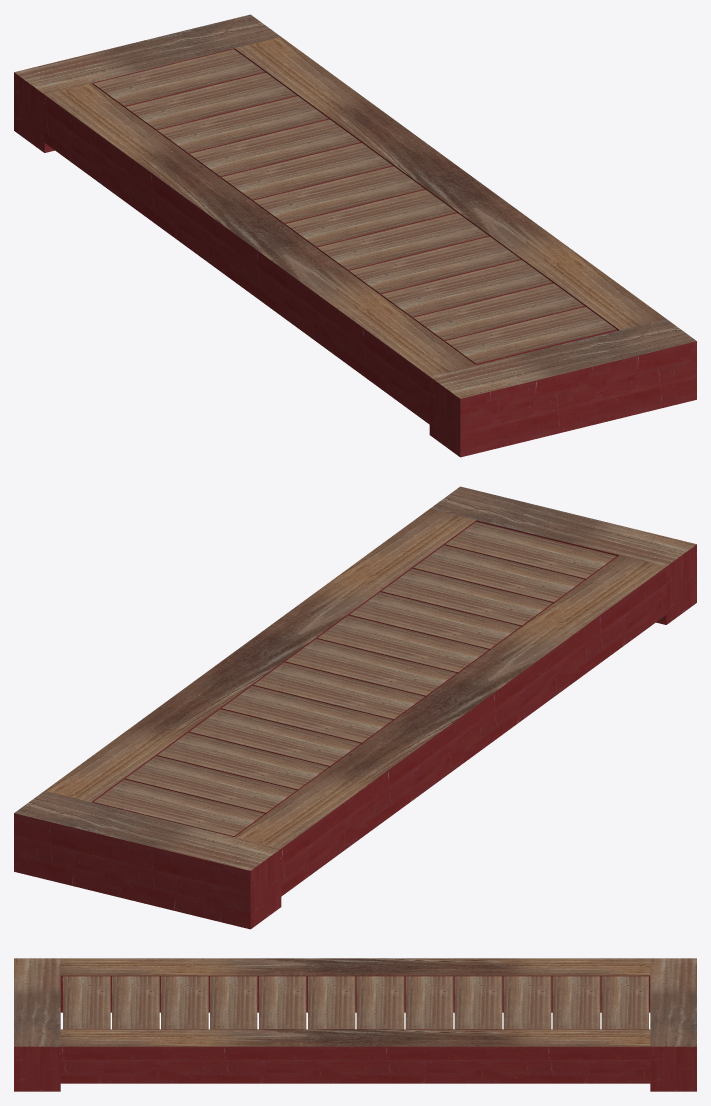
Rendered from SM_F_Wood_3.fbx.
3 views of the same model, one above another, from view 1: azimuth 30°, elevation 25°; view 2: azimuth 150°, elevation 25°; view 3: azimuth 270°, elevation 25° (orthographic). The views are drawn at different scales.
Parts seen in each view (by area): view 1: SM_F_Wood_3; view 2: SM_F_Wood_3; view 3: SM_F_Wood_3.
Boxes of the visible parts, x1=… form: SM_F_Wood_3: x1=14, y1=14, x2=696, y2=457; SM_F_Wood_3: x1=14, y1=486, x2=696, y2=929; SM_F_Wood_3: x1=14, y1=958, x2=696, y2=1091.
Bounding box in the file's own units: 93.92 × 307 × 22.2.
2 materials, 2 textured.
